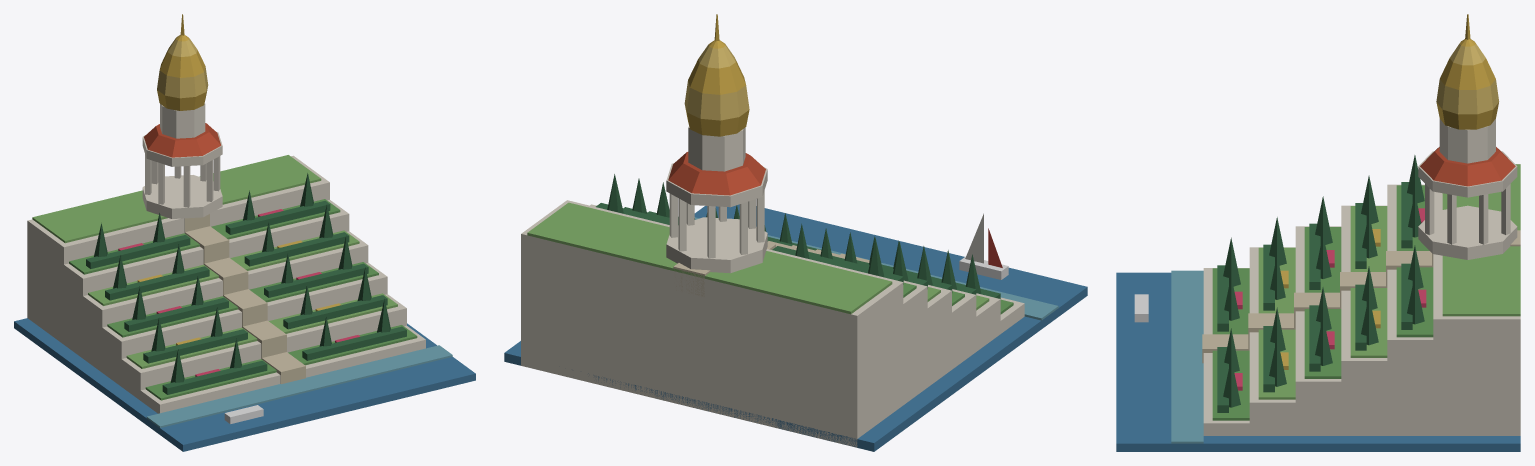
File: jardinsHaifa.glb
3 renders of one model, left to right at view 1: azimuth 30°, elevation 25°; view 2: azimuth 150°, elevation 25°; view 3: azimuth 270°, elevation 25°, orthographic. The views are drawn at different scales.
Parts seen in each view (by area): view 1: jardinsHaifa; view 2: jardinsHaifa; view 3: jardinsHaifa.
Boxes of the visible parts, box(x1,y1,x2,y2) form: jardinsHaifa: box(14, 14, 475, 451); jardinsHaifa: box(504, 14, 1087, 451); jardinsHaifa: box(1116, 14, 1520, 451).
Bounding box in the file's own units: 1.76 × 1.69 × 1.76.
